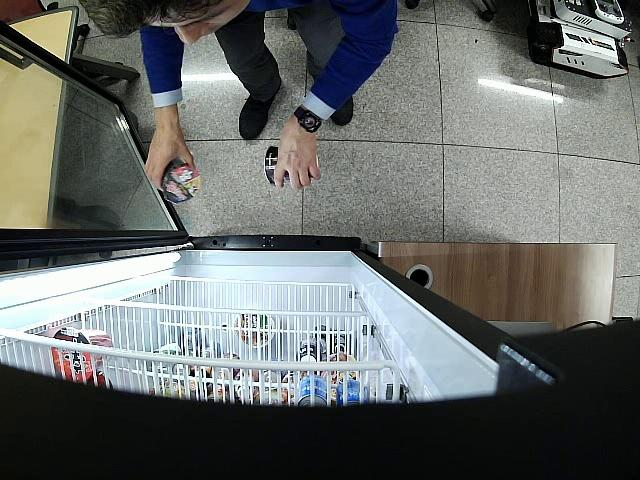00_hand: (144, 126, 196, 191), (273, 127, 320, 189)
08_buldak_S: (265, 145, 318, 185), (161, 158, 201, 204)
